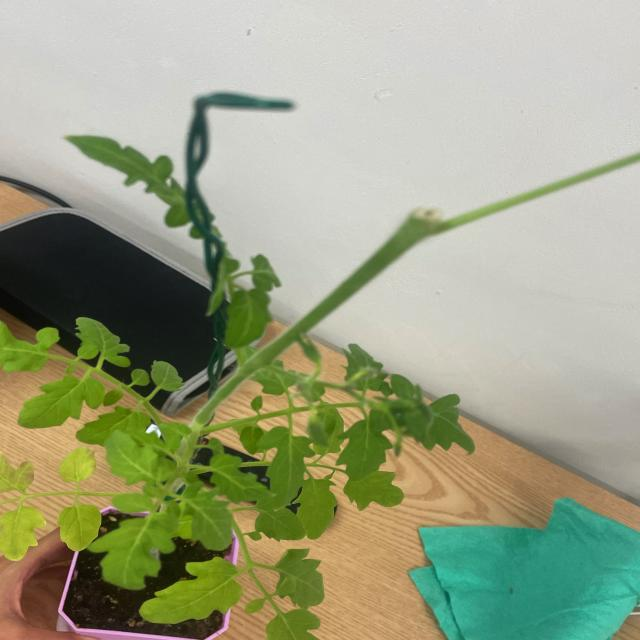level 1: (388, 399, 434, 438)
